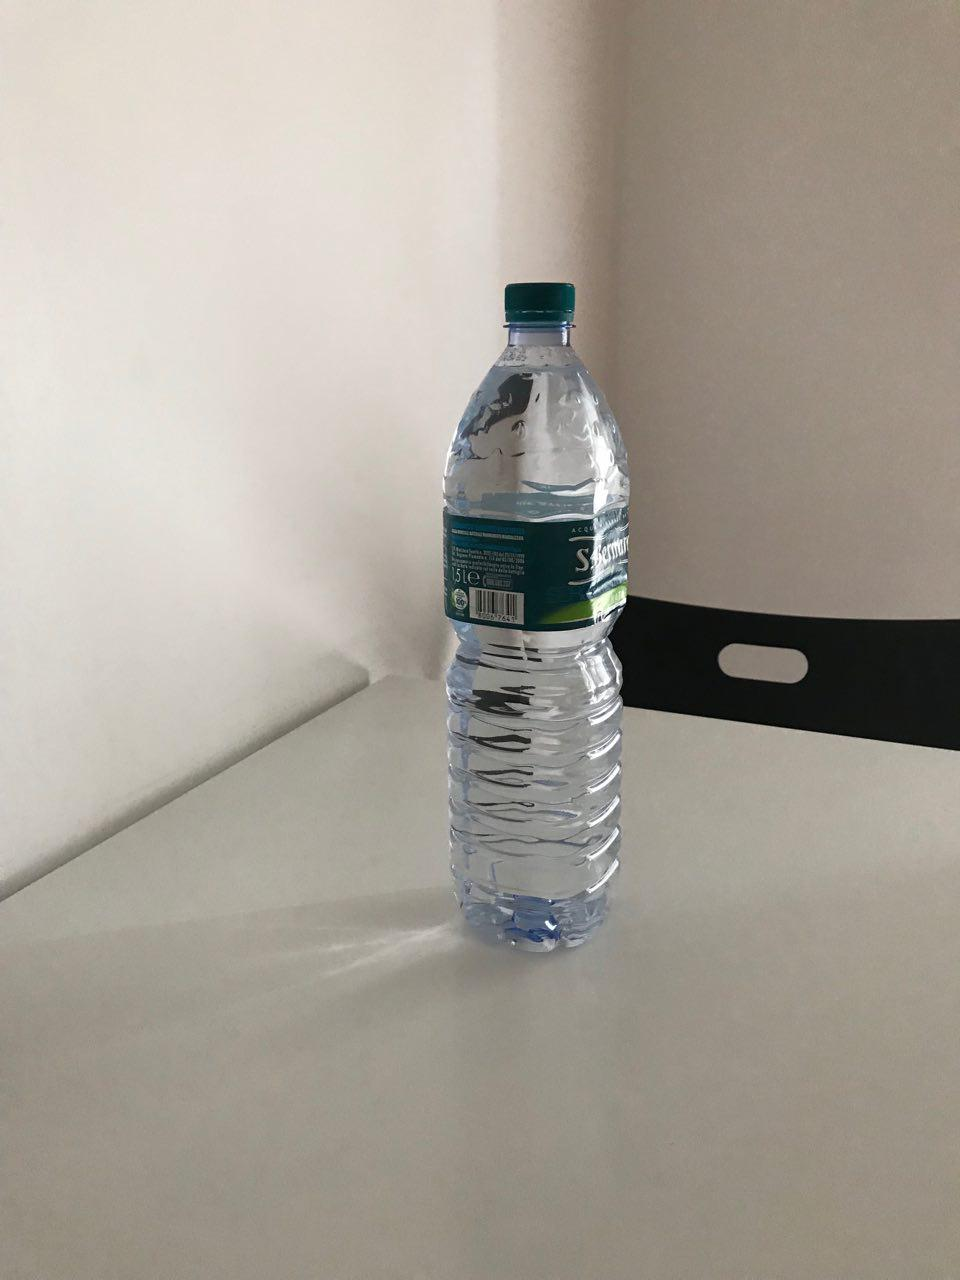san_bernardo: (442, 282, 633, 957)
